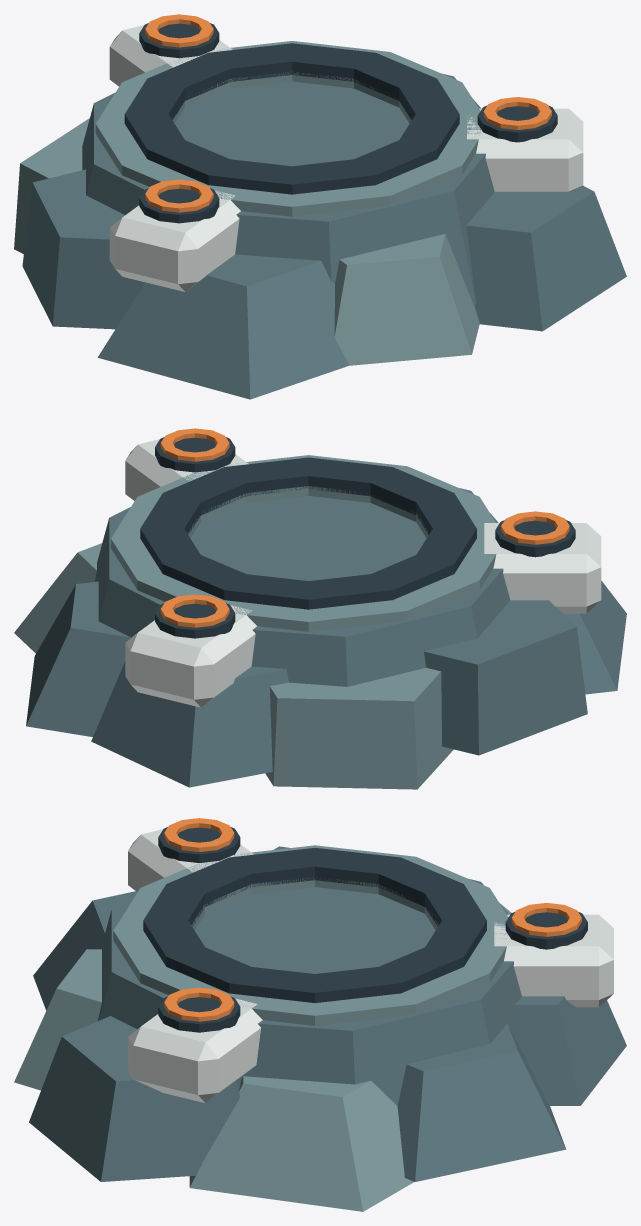
The model's file is SM_ResonanceSite_Base.fbx.
The picture shows the model from 3 angles, top to bottom: view 1: azimuth 30°, elevation 25°; view 2: azimuth 150°, elevation 25°; view 3: azimuth 270°, elevation 25°; orthographic projection. The views are drawn at different scales.
Parts seen in each view (by area): view 1: SM_ResonanceSite_Base; view 2: SM_ResonanceSite_Base; view 3: SM_ResonanceSite_Base.
Boxes of the visible parts, bbox=[...] form: SM_ResonanceSite_Base: bbox=[14, 14, 626, 399]; SM_ResonanceSite_Base: bbox=[14, 428, 626, 789]; SM_ResonanceSite_Base: bbox=[14, 818, 626, 1211].
Size of what is drawn, in the model's own units: 83.81 by 82.05 by 23.51.
